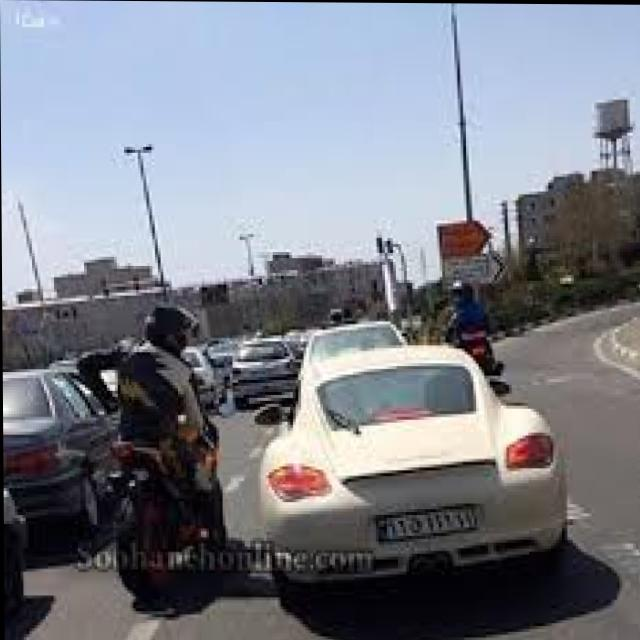licence: (372, 499, 476, 548)
